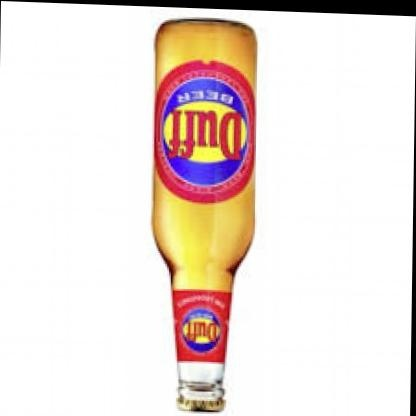trash: (152, 20, 255, 411)
